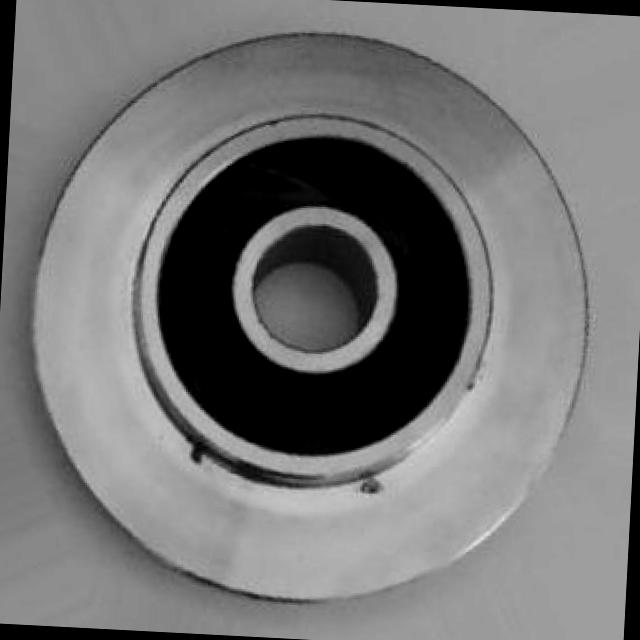Defect: (338, 468, 405, 510)
